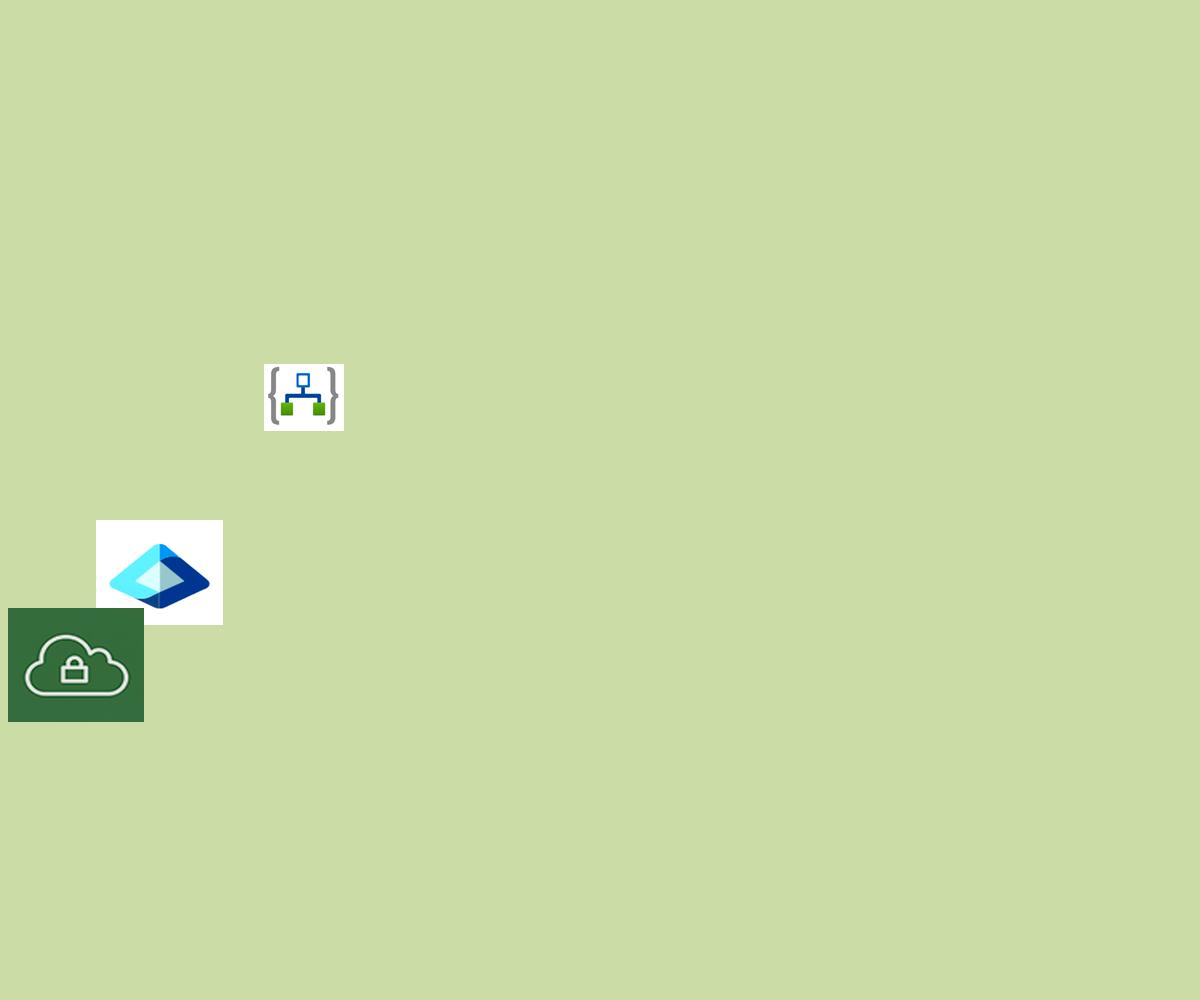AWS-Private_vpc: (8, 608, 144, 722)
Azure_integration-204-Logic-Apps: (264, 364, 344, 431)
Azure_microsoft_entra: (96, 520, 223, 625)
